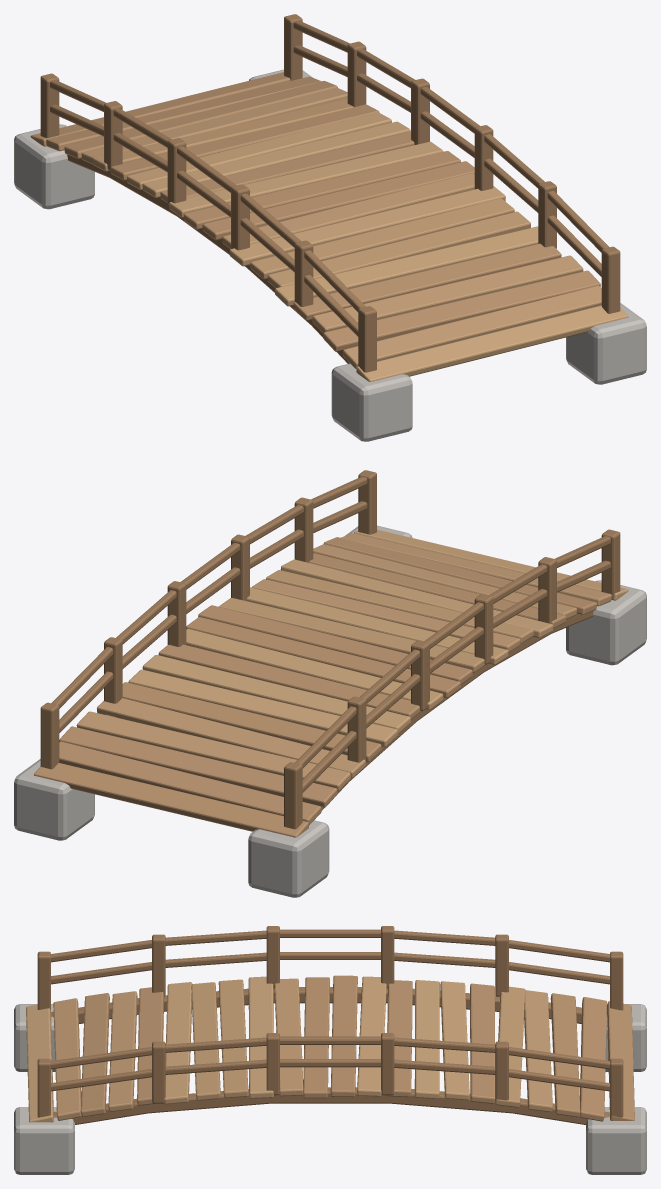
The model's file is bridge.glb.
3 views of the same model, one above another, from view 1: azimuth 30°, elevation 25°; view 2: azimuth 150°, elevation 25°; view 3: azimuth 270°, elevation 25° (orthographic). The views are drawn at different scales.
Parts seen in each view (by area): view 1: bridge; view 2: bridge; view 3: bridge.
Part boxes in pixels (<box>): bridge: <box>14,14,646,441</box>; bridge: <box>14,470,646,897</box>; bridge: <box>14,926,646,1174</box>.
Size of the model in its own units: 4.9 by 2.41 by 10.4.
